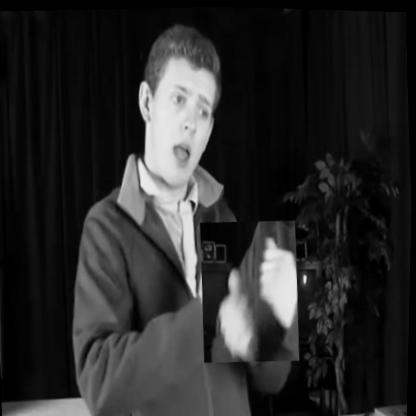HowAreYou: (198, 216, 303, 363)
